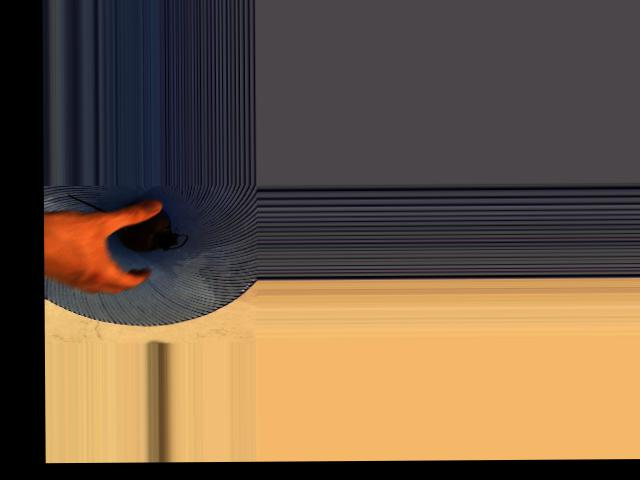beet: (68, 193, 188, 252)
